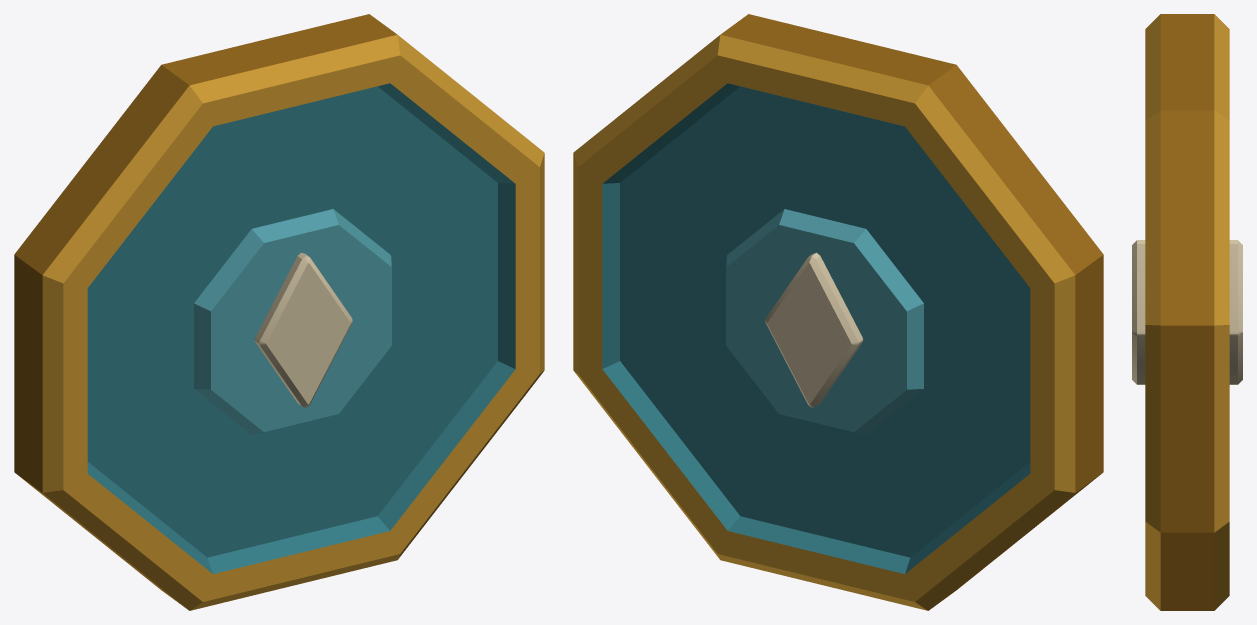
The model's file is Coin_20.glb.
3 renders of one model, left to right at view 1: azimuth 30°, elevation 25°; view 2: azimuth 150°, elevation 25°; view 3: azimuth 270°, elevation 25°, orthographic. The views are drawn at different scales.
Parts seen in each view (by area): view 1: Coin_20; view 2: Coin_20; view 3: Coin_20.
Boxes of the visible parts, x1,y1,x2,y2 form: Coin_20: (14, 14, 544, 610); Coin_20: (573, 14, 1103, 610); Coin_20: (1132, 14, 1242, 610).
Bounding box in the file's own units: 1.62 × 1.62 × 0.326.
